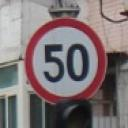speed_limit_50: (26, 19, 106, 105)
